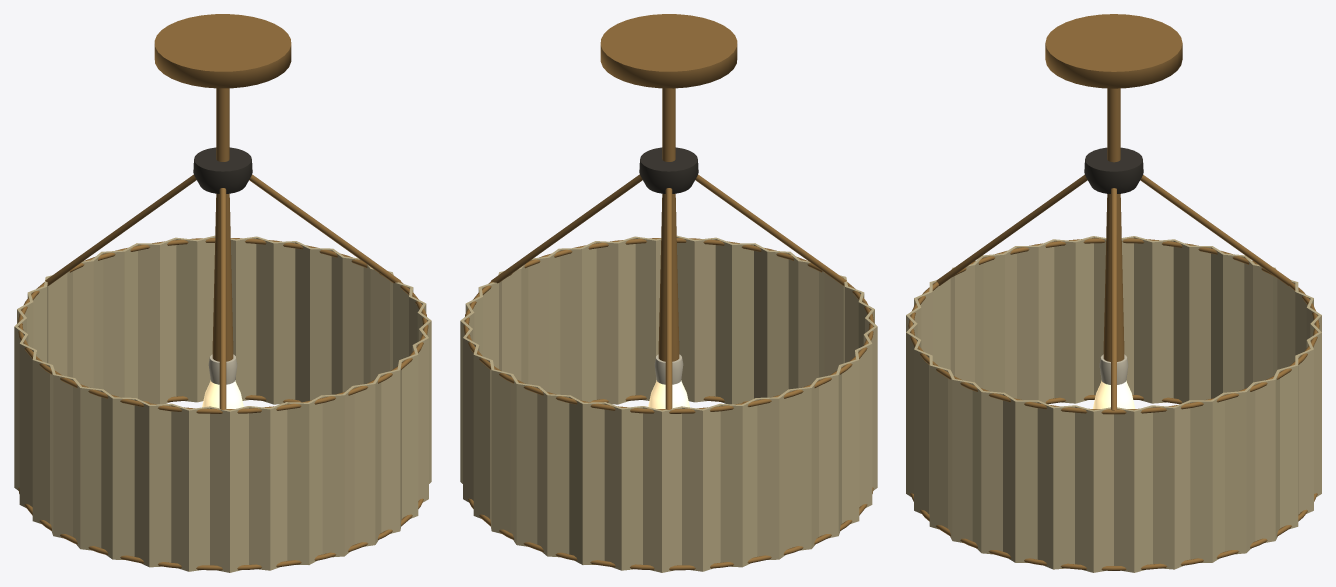
Rendered from rpg-mansion-pleated-drum-pendant-01.glb.
3 renders of one model, left to right at view 1: azimuth 30°, elevation 25°; view 2: azimuth 150°, elevation 25°; view 3: azimuth 270°, elevation 25°, orthographic.
Visible parts, largest first — view 1: rpg-mansion-pleated-drum-pendant-01; view 2: rpg-mansion-pleated-drum-pendant-01; view 3: rpg-mansion-pleated-drum-pendant-01.
Boxes of the visible parts, x1=… form: rpg-mansion-pleated-drum-pendant-01: x1=14, y1=14, x2=431, y2=572; rpg-mansion-pleated-drum-pendant-01: x1=460, y1=14, x2=877, y2=572; rpg-mansion-pleated-drum-pendant-01: x1=906, y1=14, x2=1321, y2=572.
Bounding box in the file's own units: 0.6309 × 0.74 × 0.6309.
